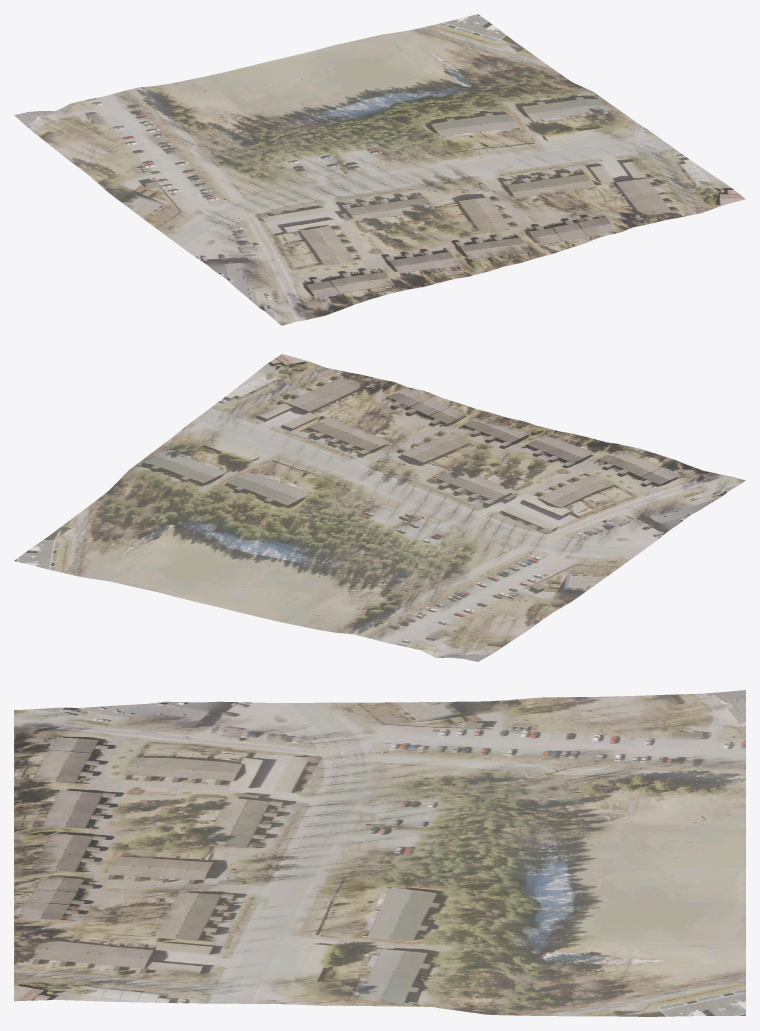
Rendered from CM_Terrain_24492097_6814674.fbx.
3 renders of one model, top to bottom at view 1: azimuth 30°, elevation 25°; view 2: azimuth 150°, elevation 25°; view 3: azimuth 270°, elevation 25°, orthographic. The views are drawn at different scales.
Parts seen in each view (by area): view 1: CM_Terrain_24492097_6814674_LOD0; view 2: CM_Terrain_24492097_6814674_LOD0; view 3: CM_Terrain_24492097_6814674_LOD0.
Part boxes in pixels (x1=…): CM_Terrain_24492097_6814674_LOD0: x1=14, y1=14, x2=745, y2=325; CM_Terrain_24492097_6814674_LOD0: x1=14, y1=354, x2=745, y2=661; CM_Terrain_24492097_6814674_LOD0: x1=14, y1=690, x2=745, y2=1016.
Size of what is drawn, in the model's own units: 205 by 7 by 205.
